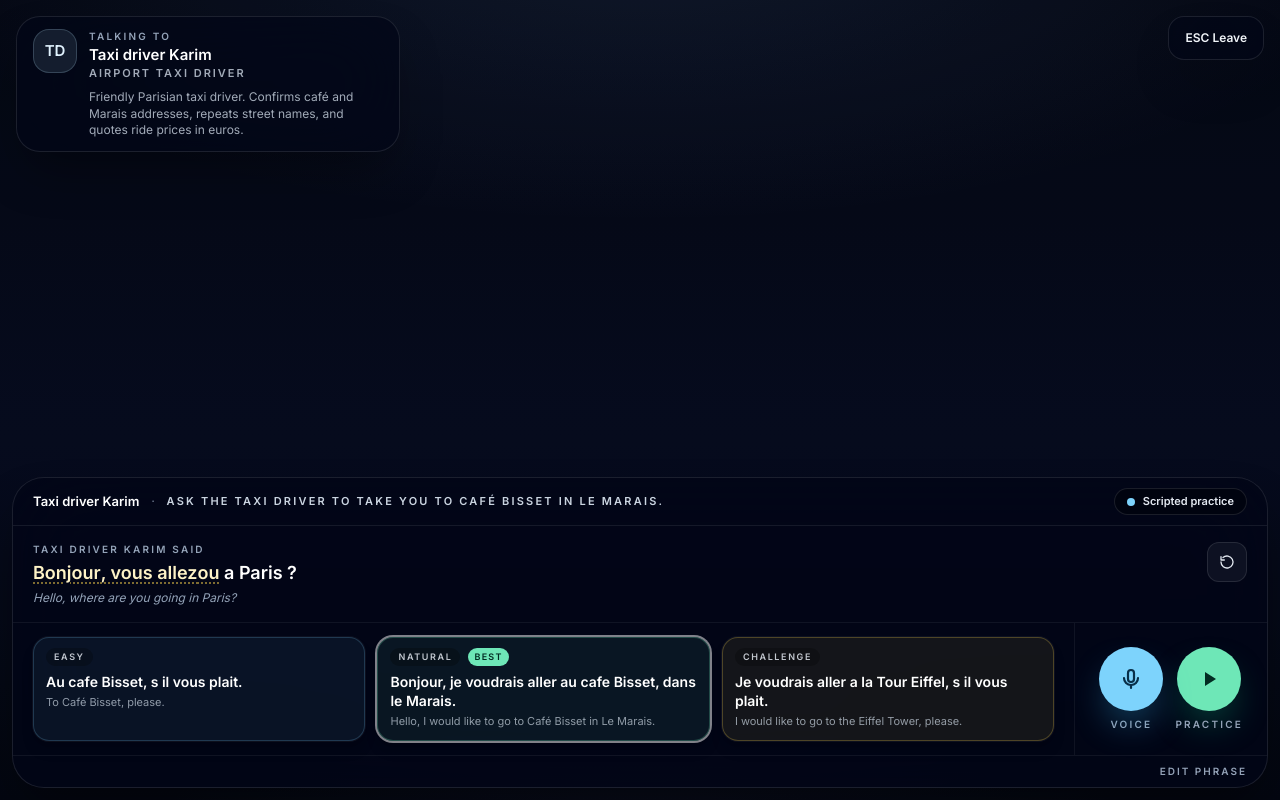
TransitConversationPanel › shows the Eiffel Tower travel action when the spoken answer asks for Eiffel
This screenshot has width=1280, height=800.
Click the button named "Answer by voice" at (1131, 678), box [1099,646,1163,710]
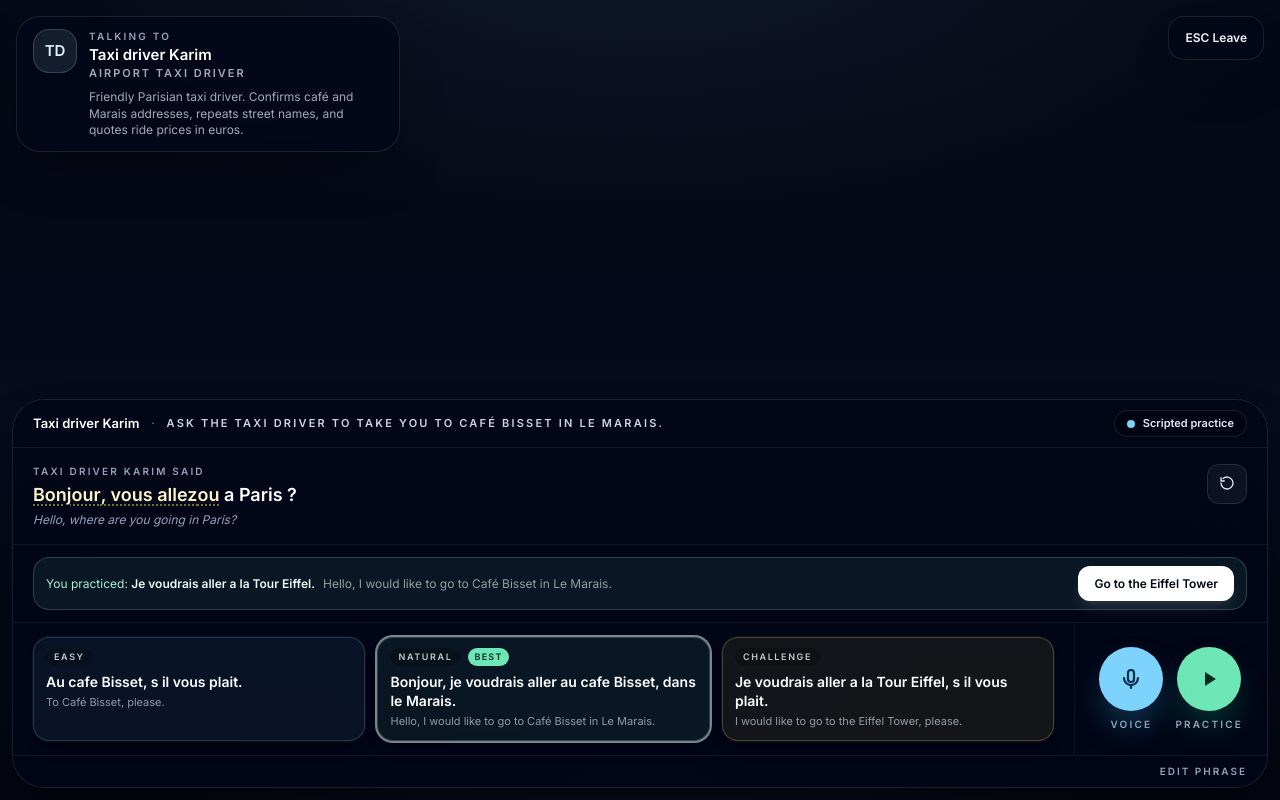
Check: the button "Go to the Eiffel Tower" is shown, box [1078,566,1234,601]
